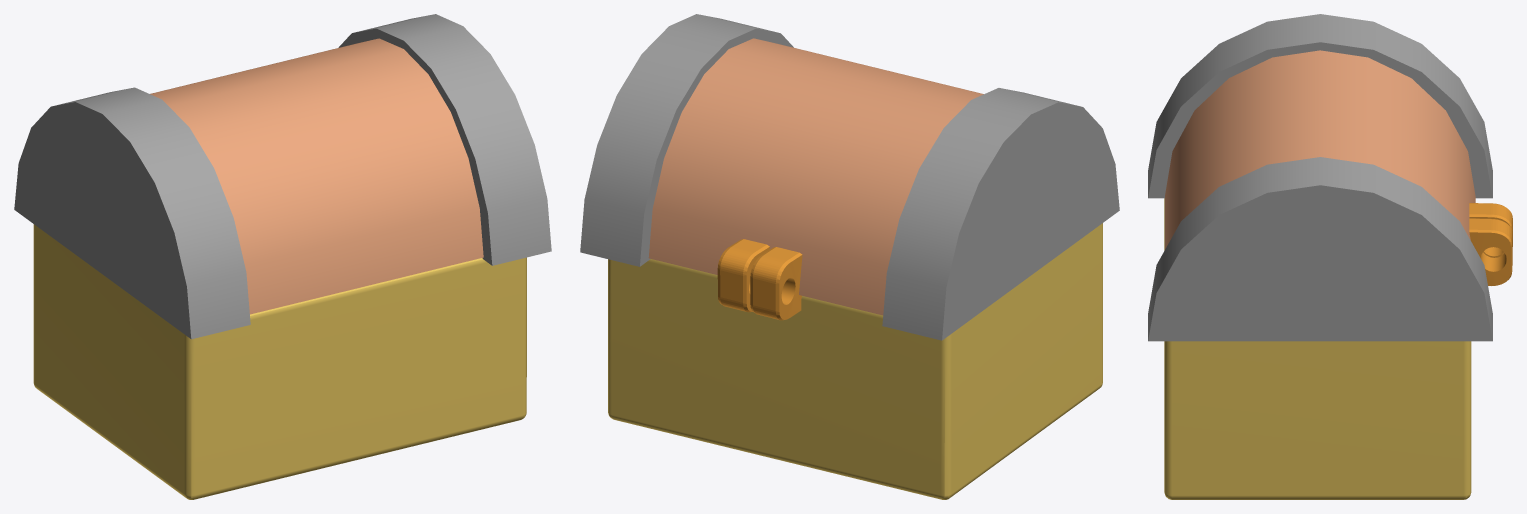
The picture shows the model from 3 angles, left to right: view 1: azimuth 30°, elevation 25°; view 2: azimuth 150°, elevation 25°; view 3: azimuth 270°, elevation 25°; orthographic projection. The views are drawn at different scales.
Parts seen in each view (by area): view 1: BoxP1, Boxfuta, BoxP6, BoxP5; view 2: BoxP1, Boxfuta, BoxP6, BoxP5, DoorBolt1, DoorBolt; view 3: BoxP5, BoxP1, Boxfuta, BoxP6, DoorBolt, DoorBolt1.
Boxes of the visible parts, bbox=[...] form: BoxP1: bbox=[33, 224, 526, 499]; Boxfuta: bbox=[150, 38, 483, 314]; BoxP6: bbox=[14, 87, 250, 339]; BoxP5: bbox=[338, 14, 551, 265]; BoxP1: bbox=[608, 223, 1102, 499]; Boxfuta: bbox=[648, 38, 983, 315]; BoxP6: bbox=[882, 88, 1119, 340]; BoxP5: bbox=[580, 14, 793, 266]; DoorBolt1: bbox=[750, 247, 802, 320]; DoorBolt: bbox=[717, 239, 769, 312]; BoxP5: bbox=[1148, 157, 1492, 341]; BoxP1: bbox=[1164, 198, 1471, 499]; Boxfuta: bbox=[1165, 50, 1475, 249]; BoxP6: bbox=[1148, 14, 1492, 198]; DoorBolt: bbox=[1469, 218, 1512, 285]; DoorBolt1: bbox=[1469, 203, 1512, 257].
Size of the model in its own units: 2.95 by 2.6 by 2.65.
